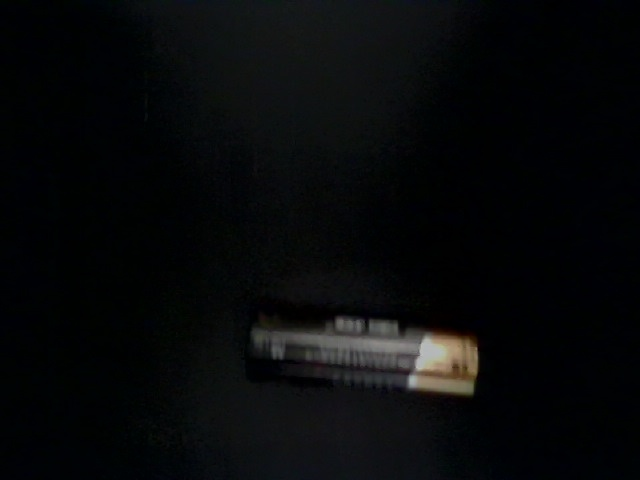YHLJ: (98, 369, 273, 480)
